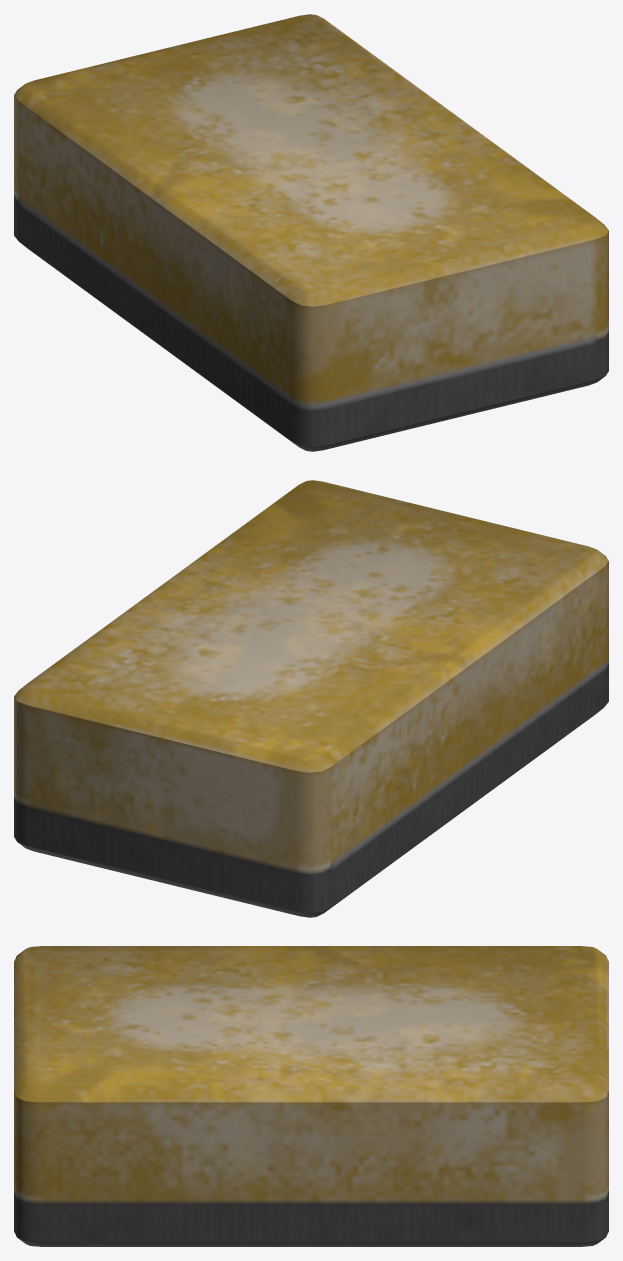
File: SM_Sponge.fbx
3 renders of one model, top to bottom at view 1: azimuth 30°, elevation 25°; view 2: azimuth 150°, elevation 25°; view 3: azimuth 270°, elevation 25°, orthographic.
Visible parts, largest first — view 1: SM_Sponge; view 2: SM_Sponge; view 3: SM_Sponge.
Boxes of the visible parts, bbox=[...] form: SM_Sponge: bbox=[14, 14, 608, 451]; SM_Sponge: bbox=[14, 480, 608, 917]; SM_Sponge: bbox=[14, 946, 608, 1246].
Size of the model in its own units: 6.17 by 10.23 by 2.98.
1 material, 1 textured.
